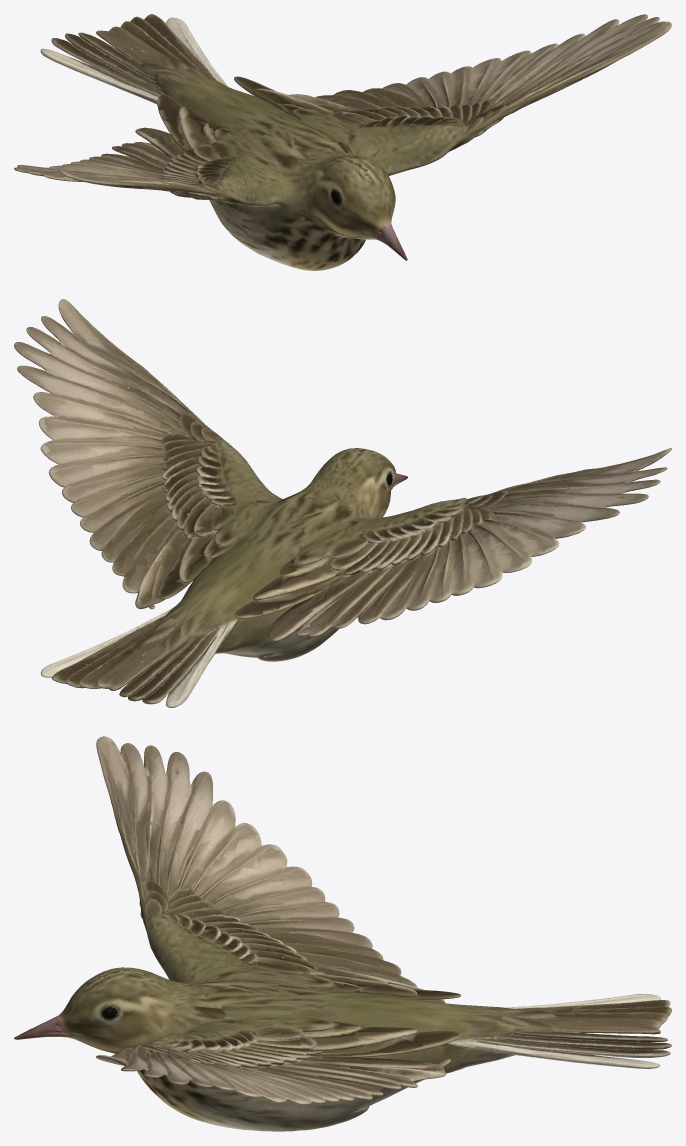
The model's file is Anthus_trivialis.glb.
3 renders of one model, top to bottom at view 1: azimuth 30°, elevation 25°; view 2: azimuth 150°, elevation 25°; view 3: azimuth 270°, elevation 25°, orthographic. The views are drawn at different scales.
Visible parts, largest first — view 1: orient; view 2: orient; view 3: orient.
Part boxes in pixels (left/top/right/bottom): orient: left=14, top=14, right=671, bottom=270; orient: left=14, top=299, right=671, bottom=707; orient: left=14, top=736, right=671, bottom=1131.
Size of the model in its own units: 0.5 by 0.164 by 0.4198.
1 material, 1 textured.
